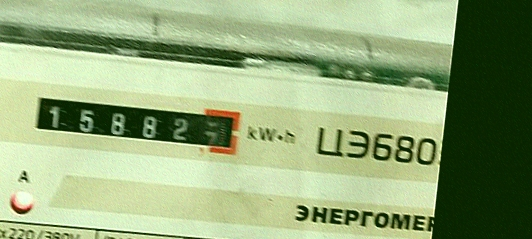1: (46, 103, 63, 129)
2: (171, 114, 190, 142)
5: (77, 106, 96, 133)
7: (202, 128, 218, 145)
8: (108, 110, 127, 136), (140, 112, 158, 138)
screen: (20, 80, 252, 165)
